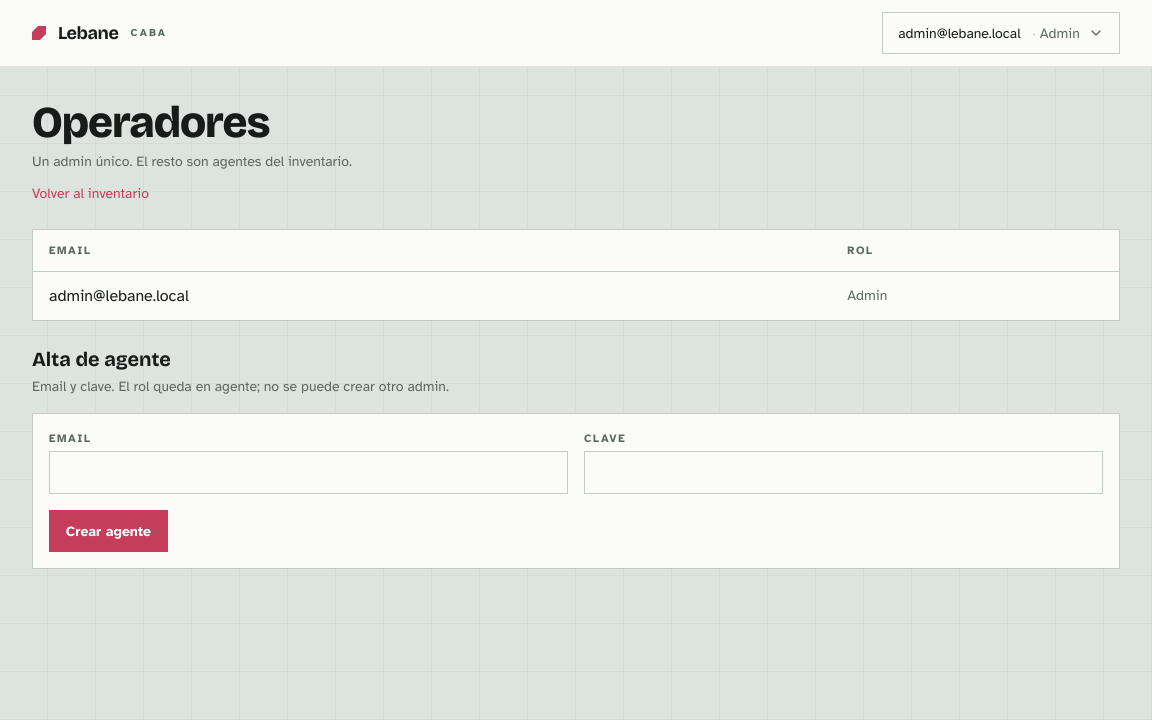
Test: AppRouter › el admin crea un agente y ve el email
The width and height of the screenshot is (1152, 720).
In the field labelled "Email": [308, 472] box x1=49 y1=451 x2=568 y2=494, type "agente@lebane.local"
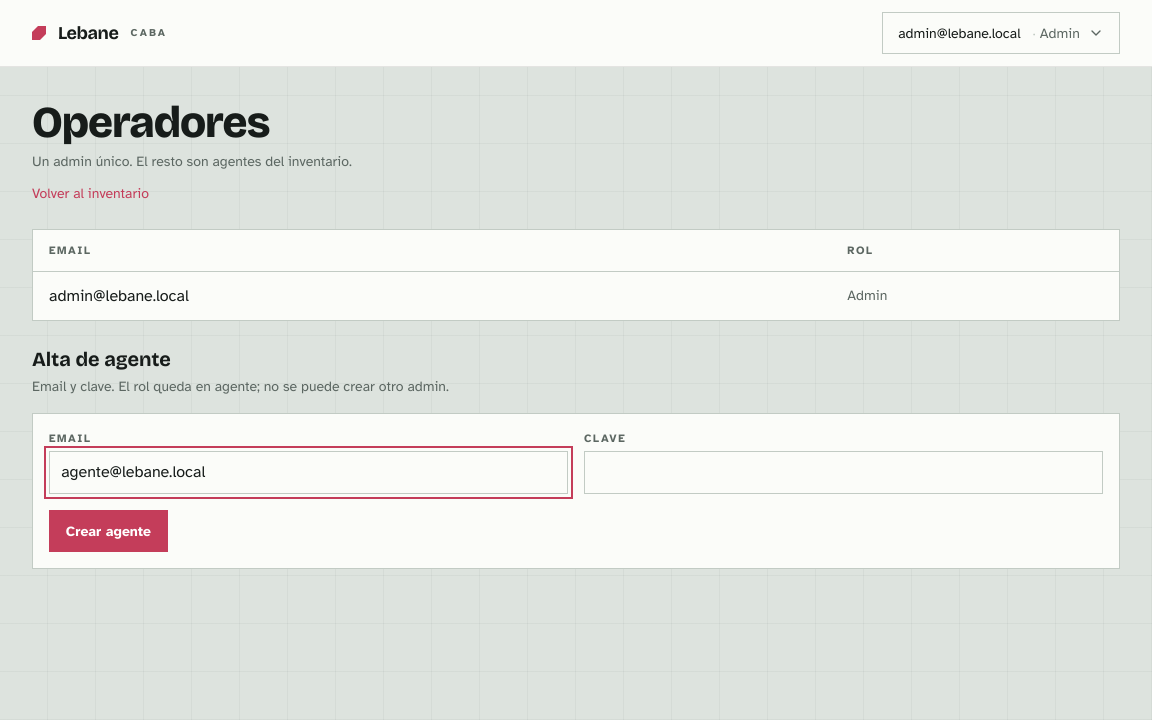
In the password field labelled "Clave": [844, 472] box x1=584 y1=451 x2=1103 y2=494, type "agentpass"
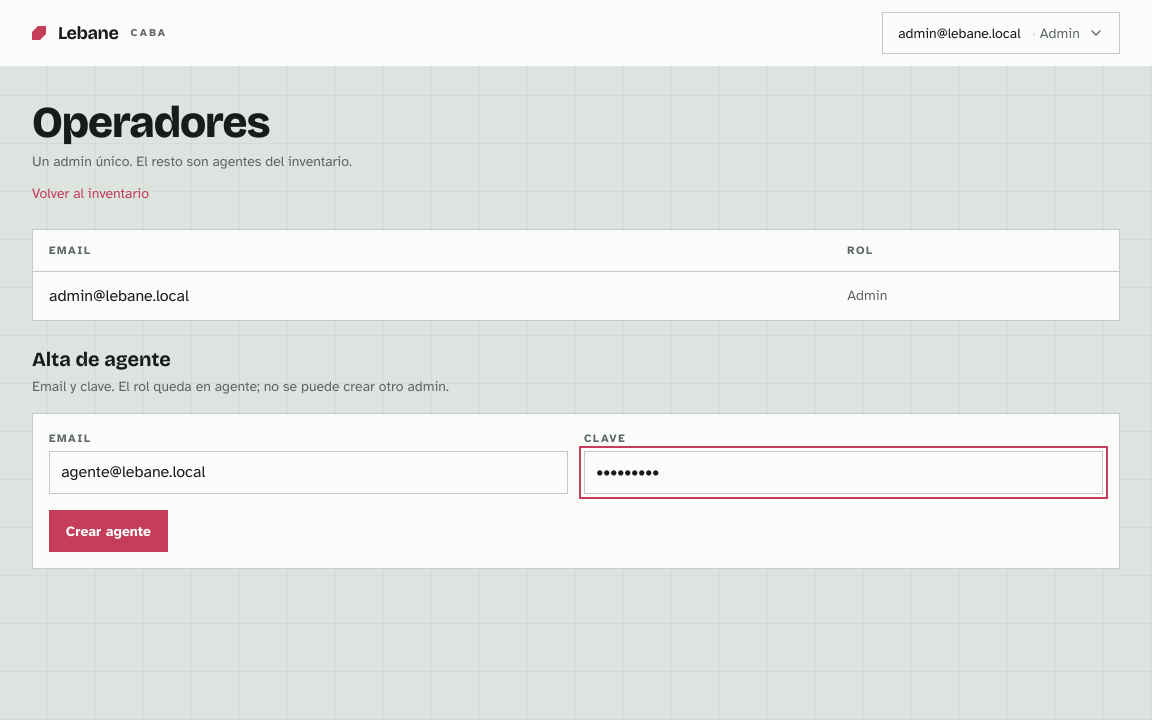
Click the button "Crear agente": [108, 531] box x1=49 y1=510 x2=168 y2=552
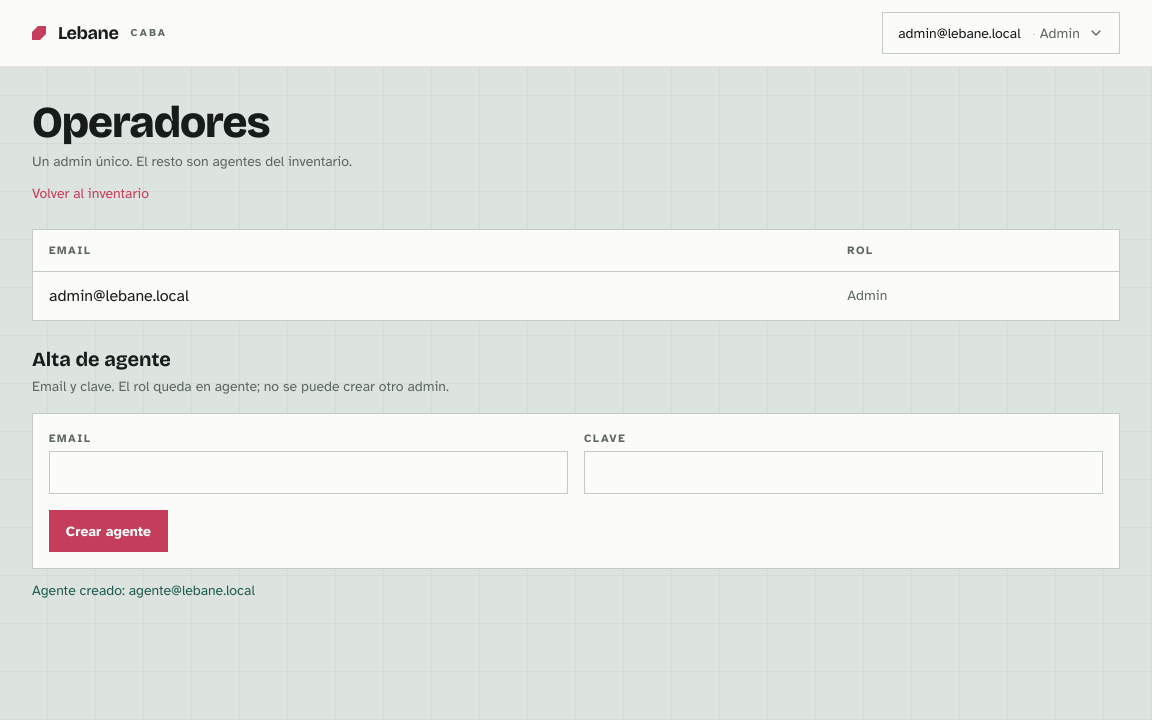
Result: the text "Agente creado: agente@lebane.local" is shown at x1=32 y1=582 x2=255 y2=599
